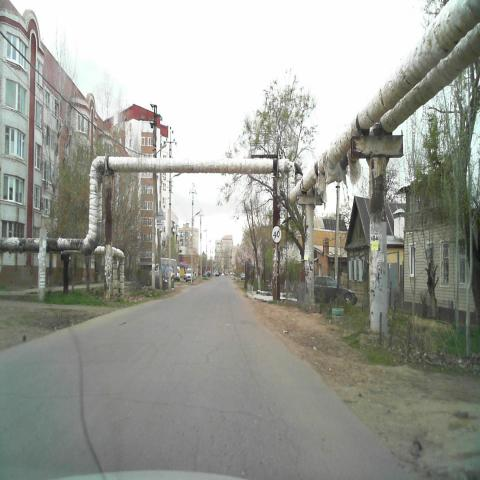3_25: (272, 226, 282, 243)
